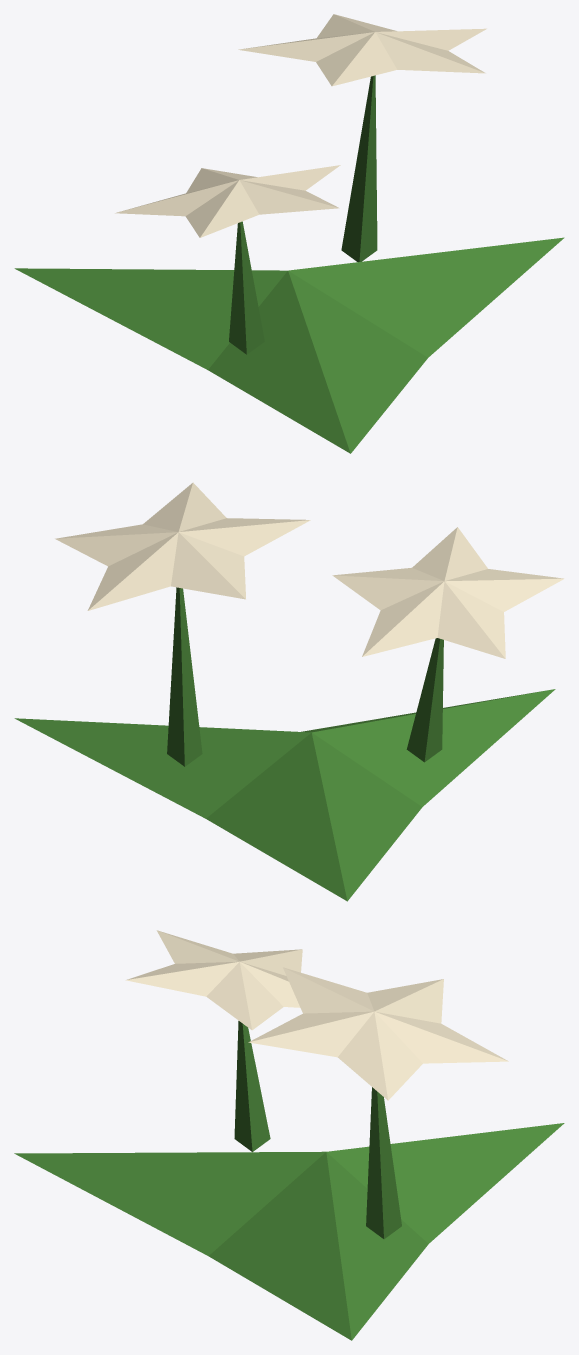
Rendered from BE_Nature_FlowerClump.fbx.
3 views of the same model, one above another, from view 1: azimuth 30°, elevation 25°; view 2: azimuth 150°, elevation 25°; view 3: azimuth 270°, elevation 25° (orthographic). The views are drawn at different scales.
Visible parts, largest first — view 1: BE_Nature_FlowerClump_Stem_4C8A3A, BE_Nature_FlowerClump_Petal_F2E7CC; view 2: BE_Nature_FlowerClump_Stem_4C8A3A, BE_Nature_FlowerClump_Petal_F2E7CC; view 3: BE_Nature_FlowerClump_Stem_4C8A3A, BE_Nature_FlowerClump_Petal_F2E7CC.
Part boxes in pixels (bbox=[...]): BE_Nature_FlowerClump_Stem_4C8A3A: bbox=[14, 75, 564, 453]; BE_Nature_FlowerClump_Petal_F2E7CC: bbox=[115, 14, 486, 237]; BE_Nature_FlowerClump_Stem_4C8A3A: bbox=[14, 587, 555, 901]; BE_Nature_FlowerClump_Petal_F2E7CC: bbox=[55, 482, 564, 658]; BE_Nature_FlowerClump_Stem_4C8A3A: bbox=[14, 1021, 564, 1340]; BE_Nature_FlowerClump_Petal_F2E7CC: bbox=[126, 930, 508, 1100].
Size of the model in its own units: 2 by 2 by 1.2.
